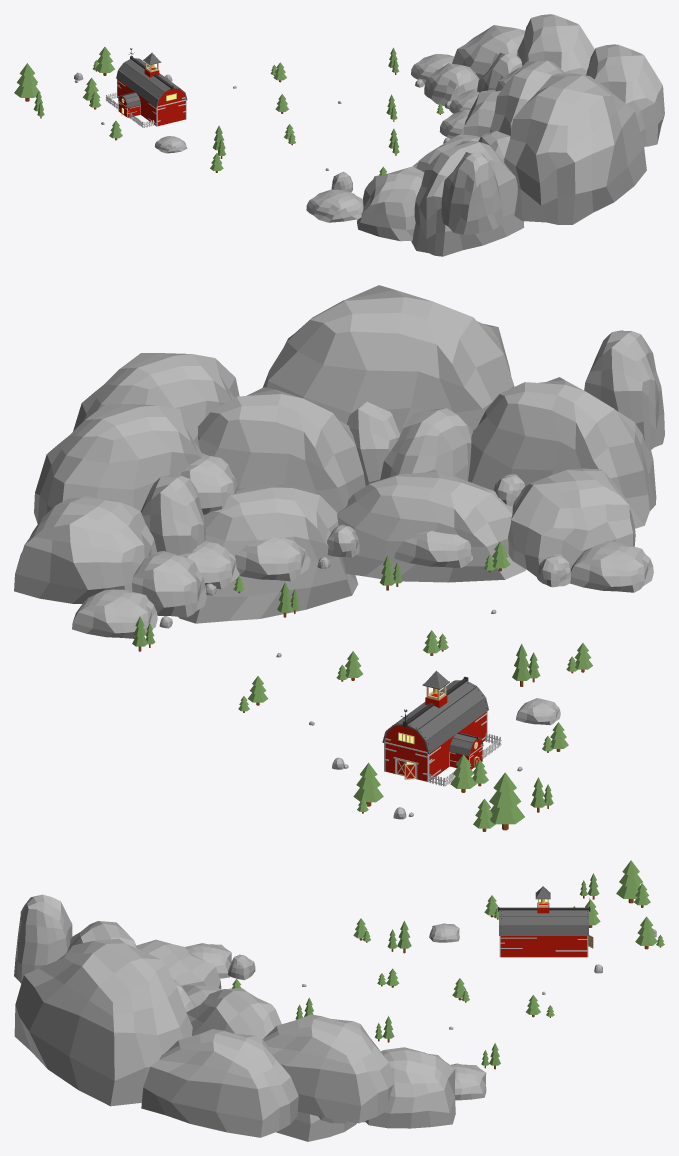
Rendered from farmhouse12.glb.
The picture shows the model from 3 angles, top to bottom: view 1: azimuth 30°, elevation 25°; view 2: azimuth 150°, elevation 25°; view 3: azimuth 270°, elevation 25°; orthographic projection. The views are drawn at different scales.
Visible parts, largest first — view 1: Cube.046, Cube.040, Cube.044, Cube.048, Cube.028, Cube.039, Cube, Cube.026, Cube.025, Cube.019, Cube.032, Cube.020 (+8 smaller); view 2: Cube.046, Cube.040, Cube.022, Cube.026, Cube.039, Cube.020, Cube.025, Cube.028, Cube.044, Cube.048, Cube, Cube.036 (+13 smaller); view 3: Cube.046, Cube.044, Cube.039, Cube.025, Cube, Cube.048, Cube.026, Cube.028, Cube.020, Cube.018, Cube.040, Cube.032 (+5 smaller).
Boxes of the visible parts, box(x1,y1,x2,y2) form: Cube.046: box(504, 73, 646, 224); Cube.040: box(411, 140, 524, 256); Cube.044: box(586, 44, 664, 146); Cube.048: box(441, 152, 503, 234); Cube.028: box(357, 166, 424, 241); Cube.039: box(517, 14, 594, 75); Cube: box(116, 58, 187, 125); Cube.026: box(490, 60, 565, 135); Cube.025: box(452, 25, 525, 79); Cube.019: box(424, 63, 479, 106); Cube.032: box(306, 189, 363, 222); Cube.020: box(463, 89, 500, 136); Cube.046: box(262, 285, 514, 434); Cube.040: box(468, 377, 656, 528); Cube.022: box(337, 469, 525, 582); Cube.026: box(197, 387, 365, 512); Cube.039: box(34, 404, 202, 523); Cube.020: box(178, 483, 358, 623); Cube.025: box(14, 495, 157, 603); Cube.028: box(508, 468, 635, 576); Cube.044: box(73, 353, 239, 431); Cube.048: box(584, 330, 664, 450); Cube: box(382, 680, 488, 781); Cube.036: box(380, 408, 472, 480); Cube.046: box(14, 938, 192, 1106); Cube.044: box(141, 1029, 298, 1137); Cube.039: box(263, 1014, 394, 1123); Cube.025: box(365, 1047, 455, 1128); Cube: box(499, 910, 588, 957); Cube.048: box(14, 894, 72, 983); Cube.026: box(186, 988, 281, 1038); Cube.028: box(136, 939, 221, 988); Cube.020: box(276, 1112, 356, 1141); Cube.018: box(451, 1063, 486, 1100); Cube.040: box(66, 921, 137, 952); Cube.032: box(185, 943, 231, 978).
Size of the model in its own units: 70.83 by 20.8 by 76.27.
